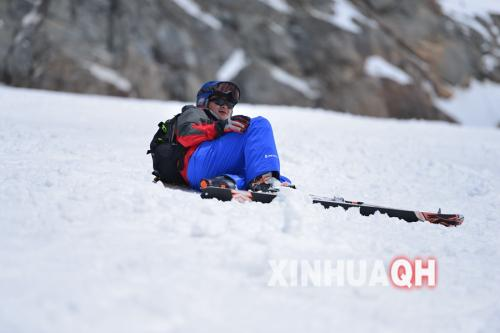fall: (138, 73, 306, 214)
